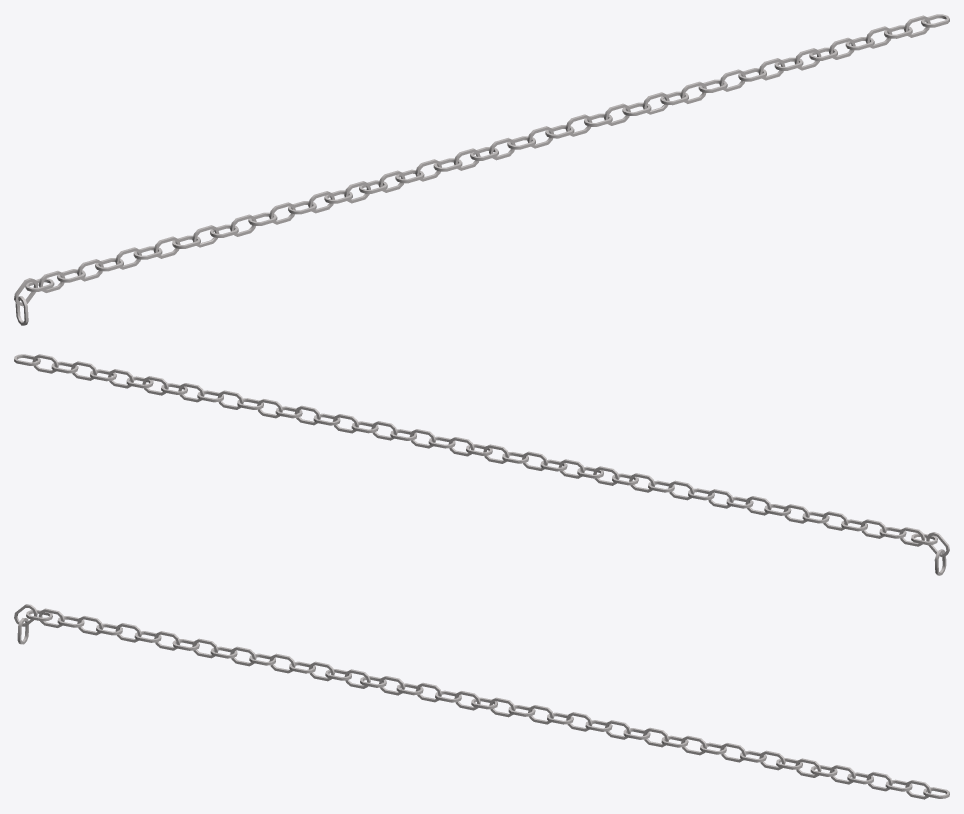
3 renders of one model, top to bottom at view 1: azimuth 30°, elevation 25°; view 2: azimuth 150°, elevation 25°; view 3: azimuth 330°, elevation 25°, orthographic. The views are drawn at different scales.
Visible parts, largest first — view 1: C_S_5; view 2: C_S_5; view 3: C_S_5.
Boxes of the visible parts, x1,y1,x2,y2 form: C_S_5: [14, 14, 949, 325]; C_S_5: [14, 354, 949, 575]; C_S_5: [14, 604, 949, 799].
Bounding box in the file's own units: 185 × 8.14 × 18.32.
1 material, 1 textured.
